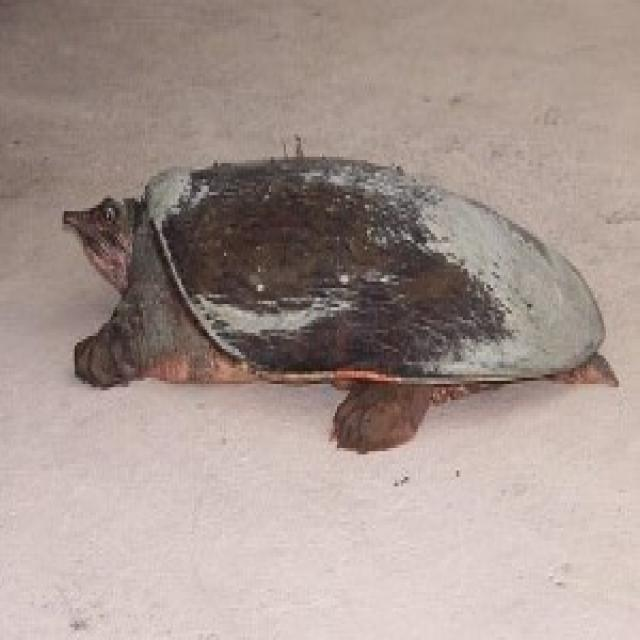Sea turtle: (31, 160, 640, 453)
